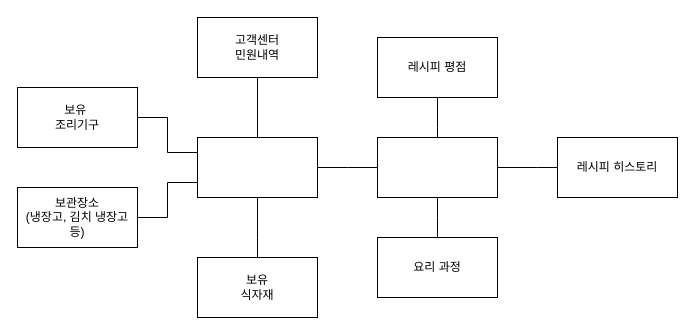
Image size: 695x335. Some labels were removed from this diagram. Here are the shapes that lost their labels. From the top down, the centre of each, then its label:
At point (257, 167): "회원정보".
At point (437, 167): "레시피".
